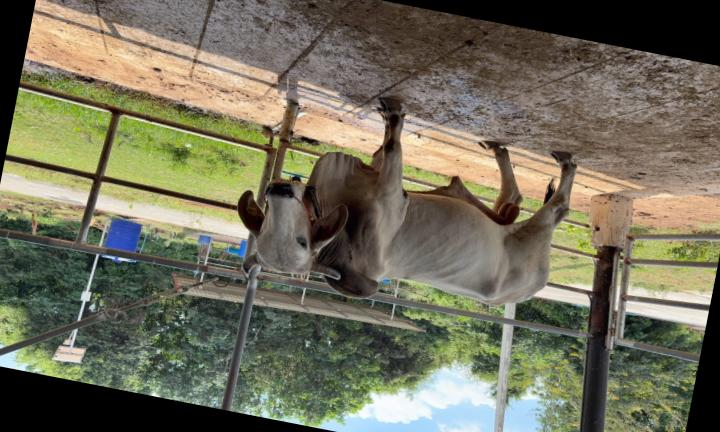Brahman: (237, 99, 576, 305)
